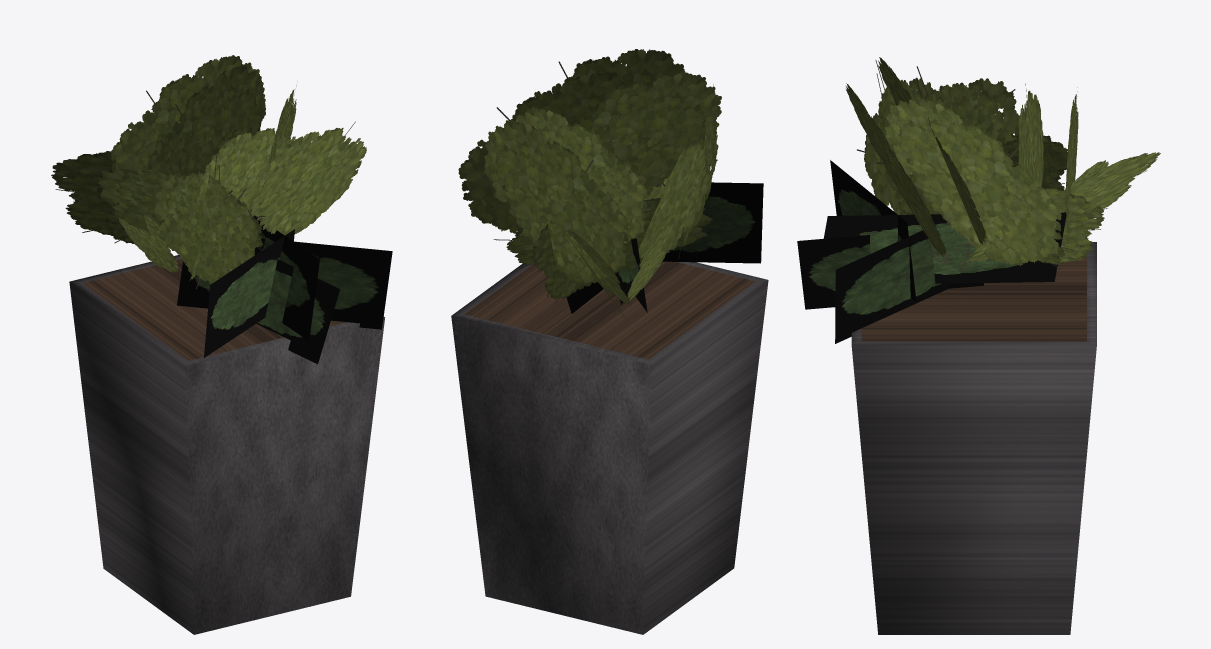
The model's file is SM_Morin_Fioriera_LOD2.fbx.
3 views of the same model, side by side, from view 1: azimuth 30°, elevation 25°; view 2: azimuth 150°, elevation 25°; view 3: azimuth 270°, elevation 25° (orthographic). The views are drawn at different scales.
Visible parts, largest first — view 1: SM_Morin_Fioriera_LOD2; view 2: SM_Morin_Fioriera_LOD2; view 3: SM_Morin_Fioriera_LOD2.
Boxes of the visible parts, x1,y1,x2,y2 form: SM_Morin_Fioriera_LOD2: [51, 55, 392, 634]; SM_Morin_Fioriera_LOD2: [451, 49, 768, 634]; SM_Morin_Fioriera_LOD2: [797, 57, 1160, 634].
Size of the model in its own units: 106 by 121 by 178.
Materials: 3 (3 with a texture image).
